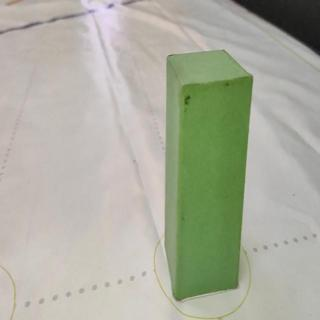greenbox: (163, 47, 255, 301)
